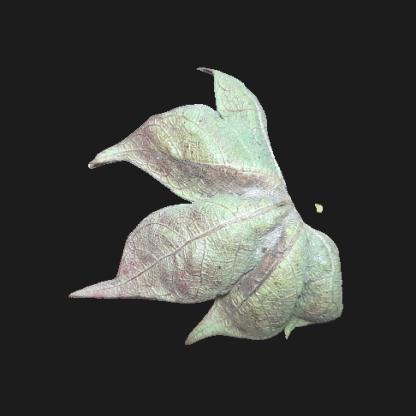curl_stage2: (218, 110, 256, 164), (205, 194, 241, 250), (312, 269, 344, 307), (215, 76, 248, 100)
sooty: (126, 221, 203, 289), (239, 221, 303, 302), (129, 118, 213, 166), (162, 162, 271, 198), (206, 301, 284, 337)
